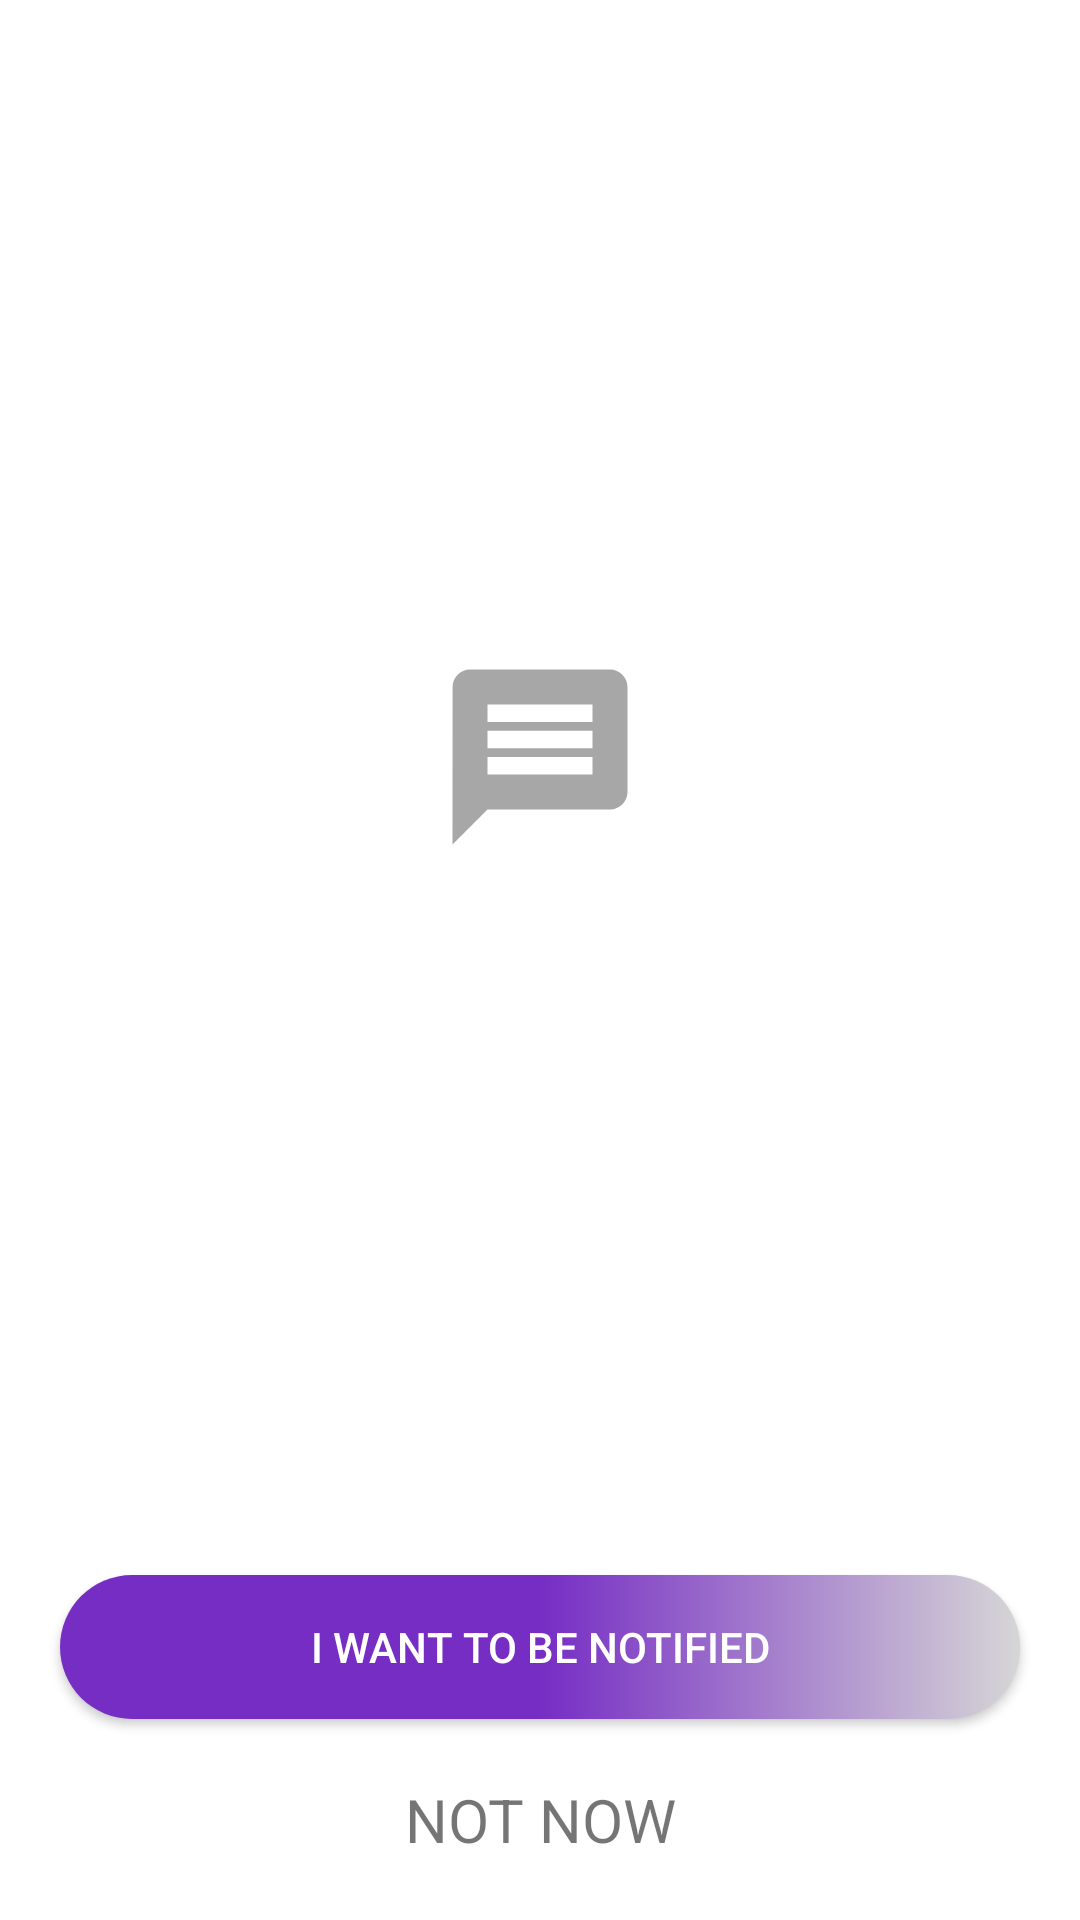

Named icons in this screenshot (1080 × 1920) and their centers, (x,y):
message: (540,756)
